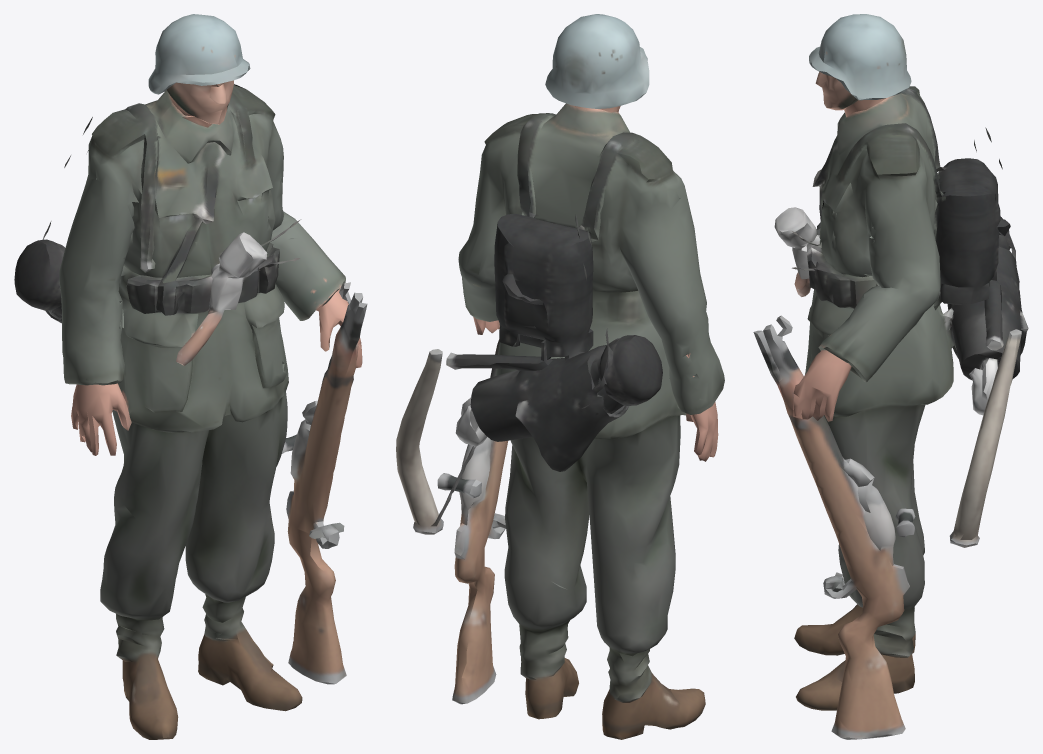
Rendered from german_pawn.glb.
3 views of the same model, side by side, from view 1: azimuth 30°, elevation 25°; view 2: azimuth 150°, elevation 25°; view 3: azimuth 270°, elevation 25° (orthographic). The views are drawn at different scales.
Parts seen in each view (by area): view 1: WW2_German_Soldier_15k; view 2: WW2_German_Soldier_15k; view 3: WW2_German_Soldier_15k.
Part boxes in pixels (x1,y1,x2,y2): WW2_German_Soldier_15k: [14, 14, 367, 739]; WW2_German_Soldier_15k: [396, 14, 724, 739]; WW2_German_Soldier_15k: [753, 14, 1028, 739].
Bounding box in the file's own units: 0.4008 × 1 × 0.3791.
1 material, 1 textured.
